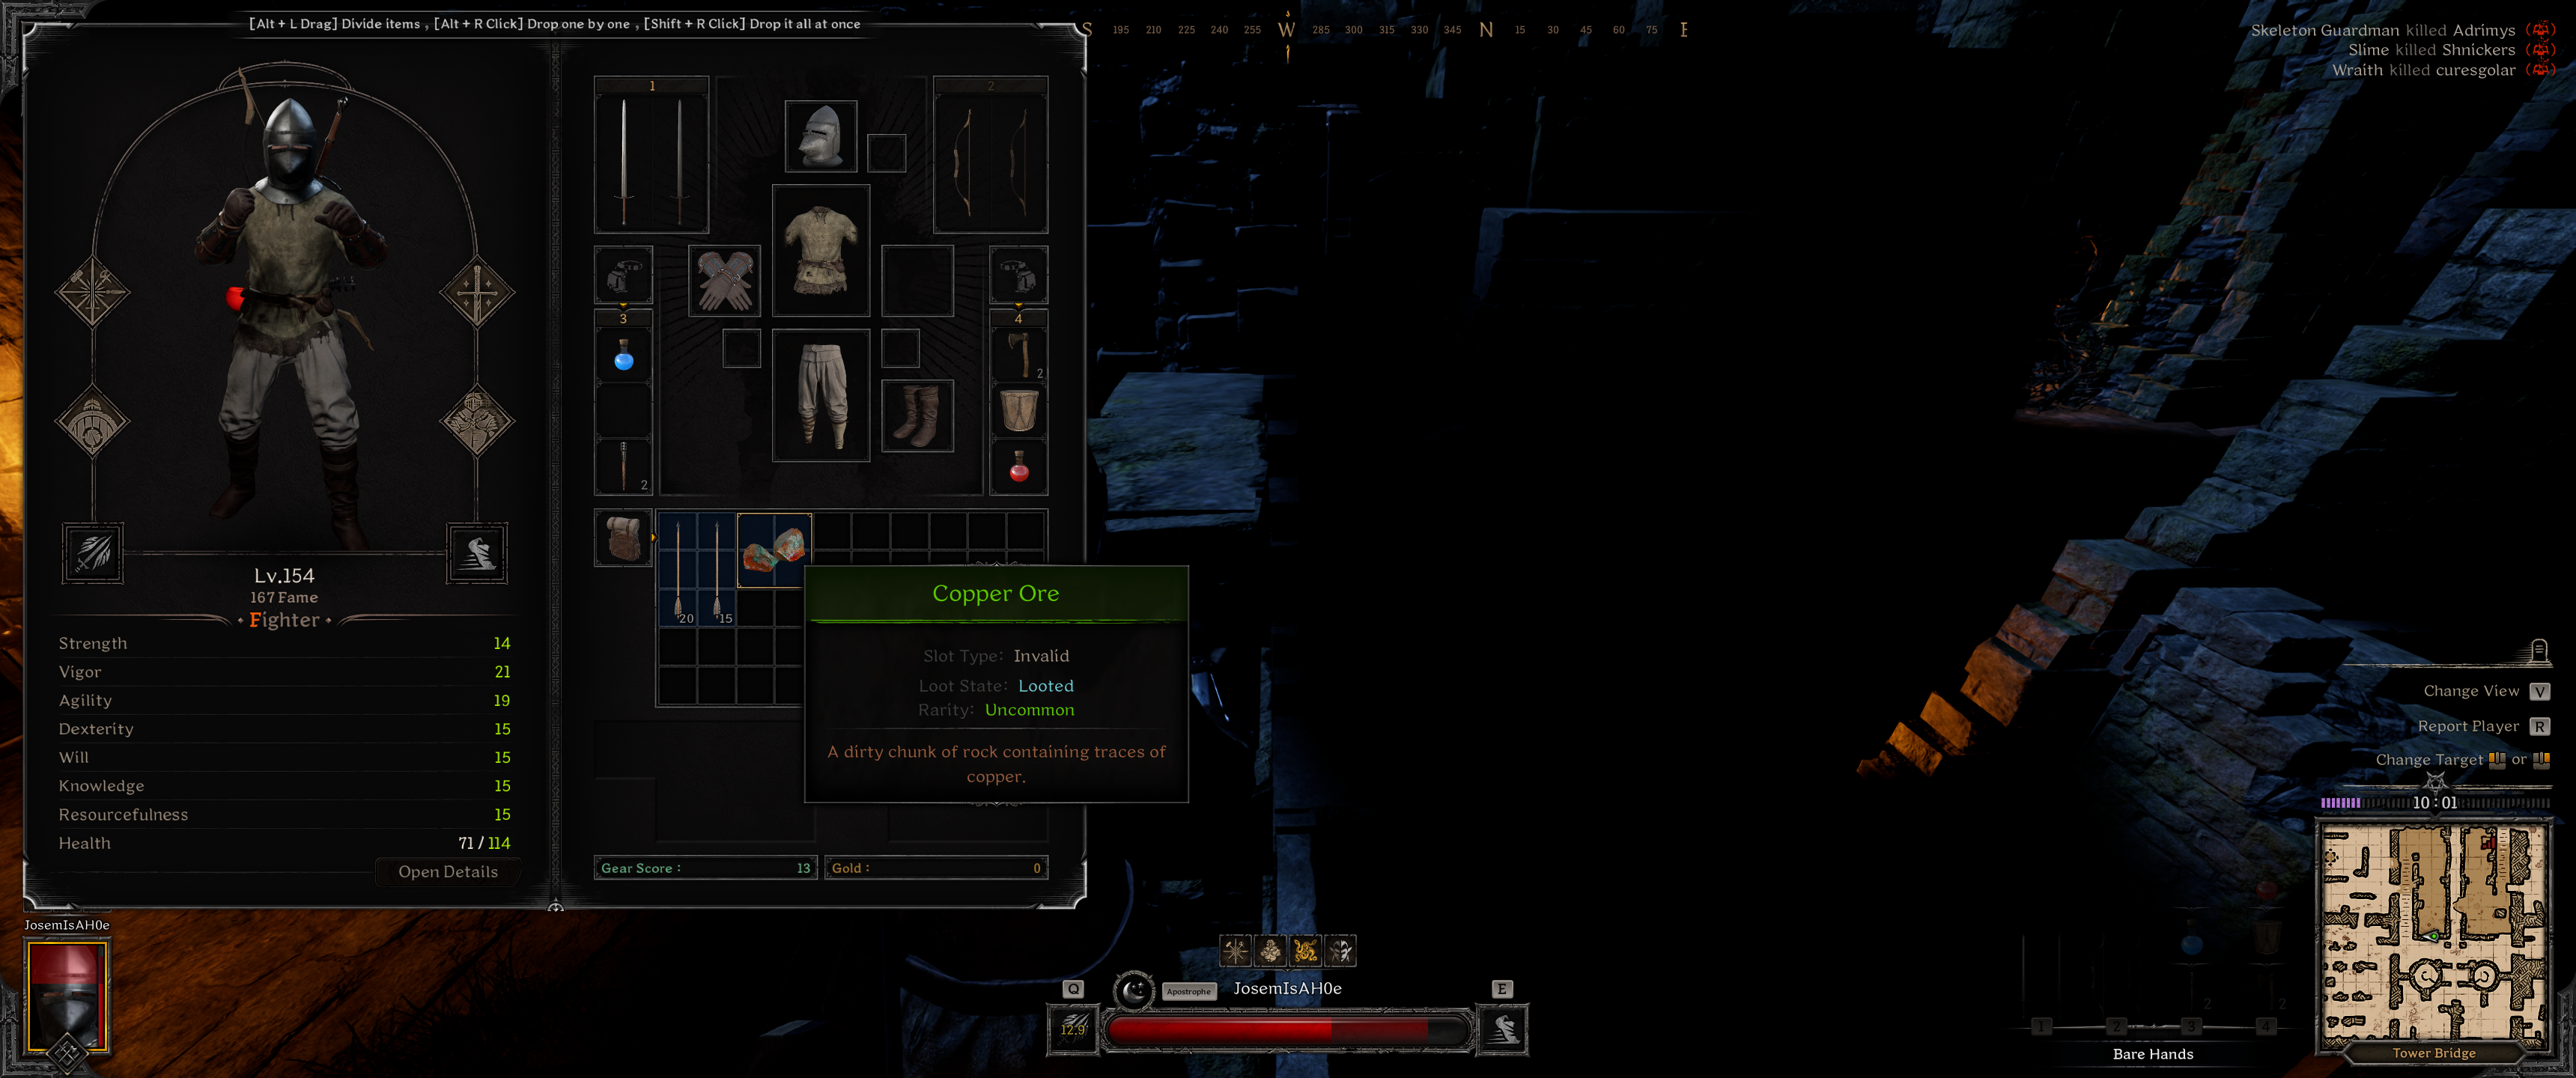Tooltip: (803, 564, 1189, 805)
